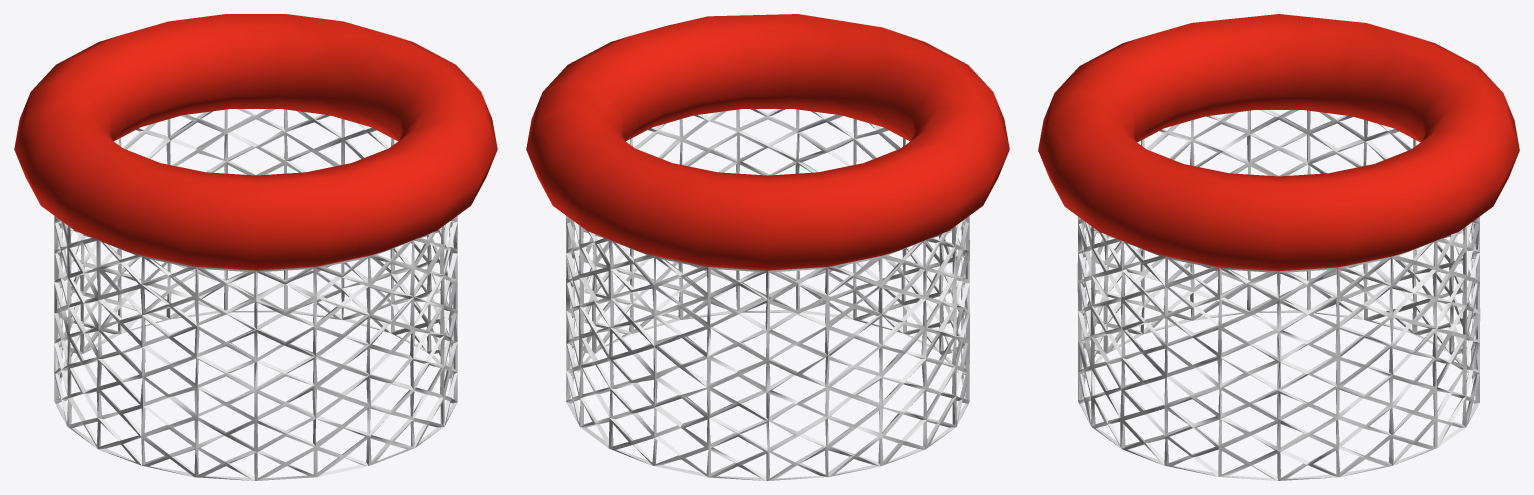
Rendered from GrappleBallFloatingScorePoint.fbx.
3 views of the same model, side by side, from view 1: azimuth 30°, elevation 25°; view 2: azimuth 150°, elevation 25°; view 3: azimuth 270°, elevation 25° (orthographic).
Visible parts, largest first — view 1: Torus.001; view 2: Torus.001; view 3: Torus.001.
Part boxes in pixels (x1=…): Torus.001: x1=14, y1=14, x2=497, y2=480; Torus.001: x1=526, y1=14, x2=1009, y2=480; Torus.001: x1=1038, y1=14, x2=1519, y2=480.
Bounding box in the file's own units: 249 × 169 × 249.
